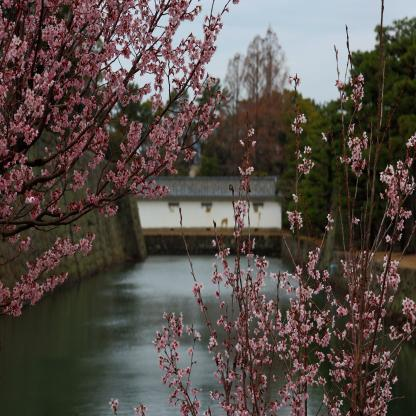Ume: (108, 0, 416, 416), (0, 0, 243, 314)
